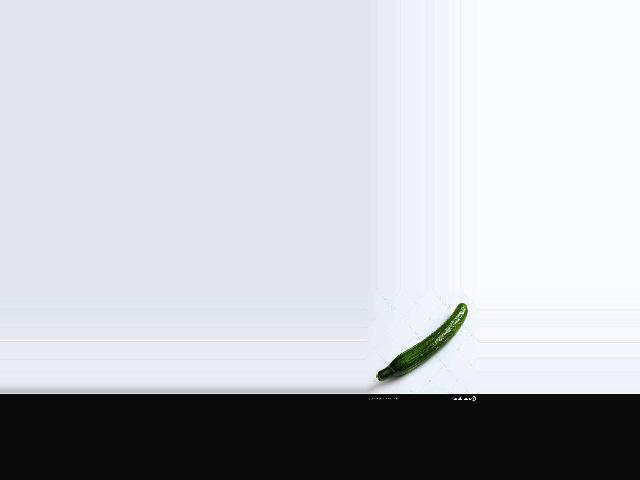cucumber: (375, 303, 466, 380)
